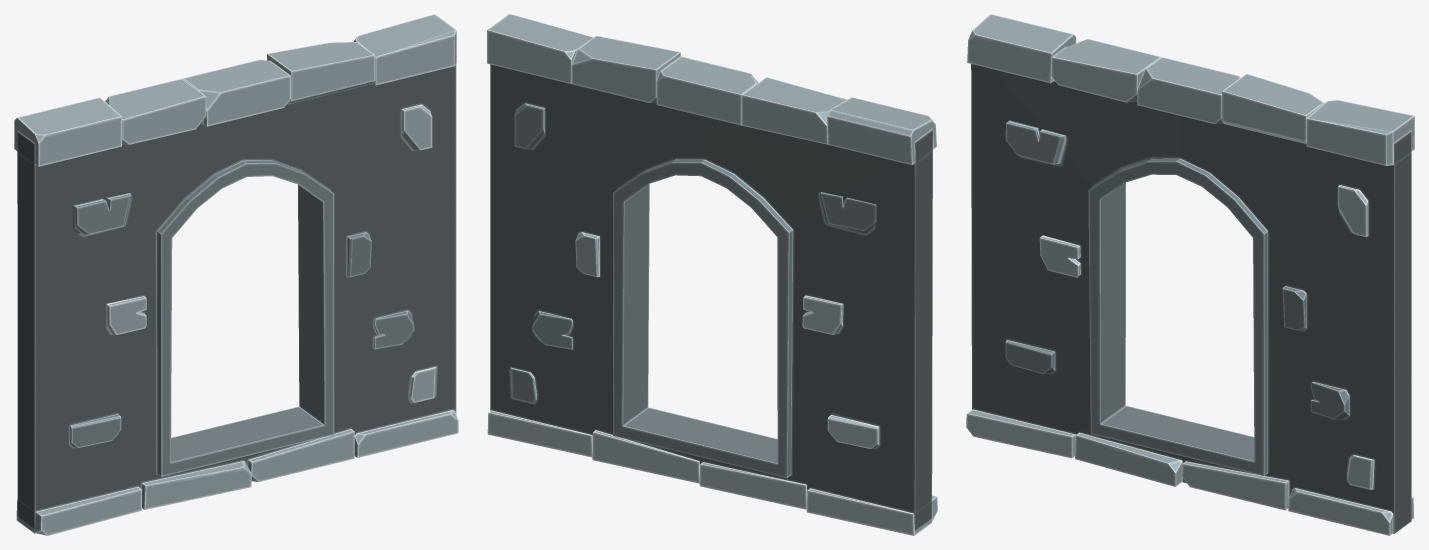
The model's file is doorway.glb.
The picture shows the model from 3 angles, left to right: view 1: azimuth 30°, elevation 25°; view 2: azimuth 150°, elevation 25°; view 3: azimuth 330°, elevation 25°; orthographic projection.
Parts seen in each view (by area): view 1: Wall 4; view 2: Wall 4; view 3: Wall 4.
Part boxes in pixels (bbox=[...]): Wall 4: bbox=[14, 14, 458, 535]; Wall 4: bbox=[487, 14, 937, 535]; Wall 4: bbox=[966, 14, 1414, 535].
Bounding box in the file's own units: 4.01 × 3.66 × 0.4643.
Materials: 1 (1 with a texture image).
